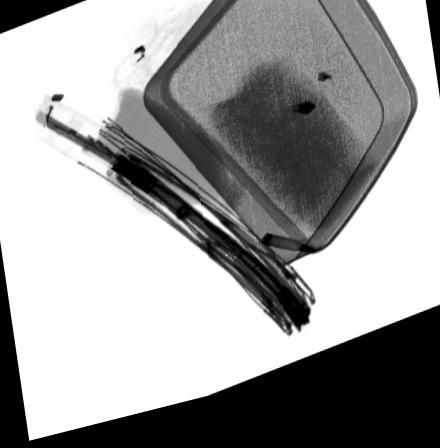Bullet: (259, 244, 319, 269)
